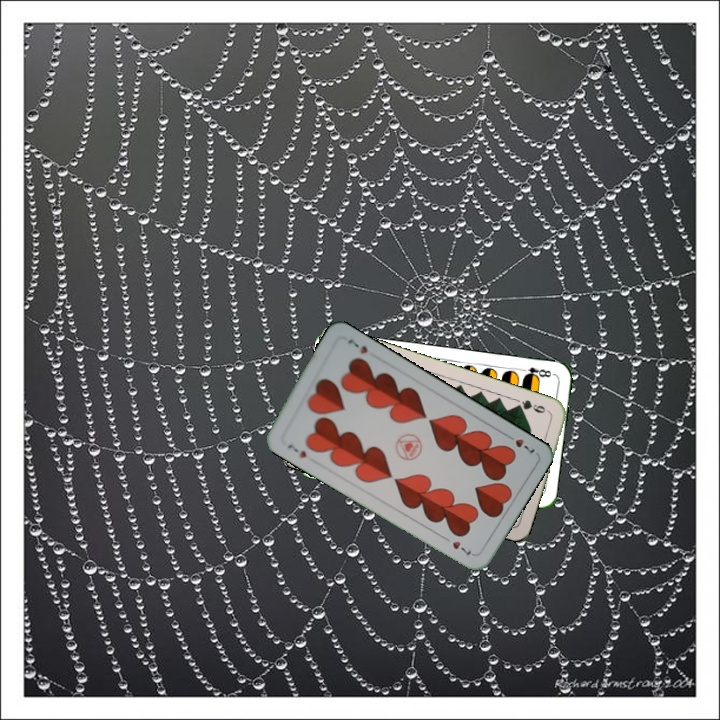E8: (516, 363, 557, 382)
G9: (511, 396, 548, 416)
H7: (501, 430, 538, 457), (284, 440, 309, 461)
